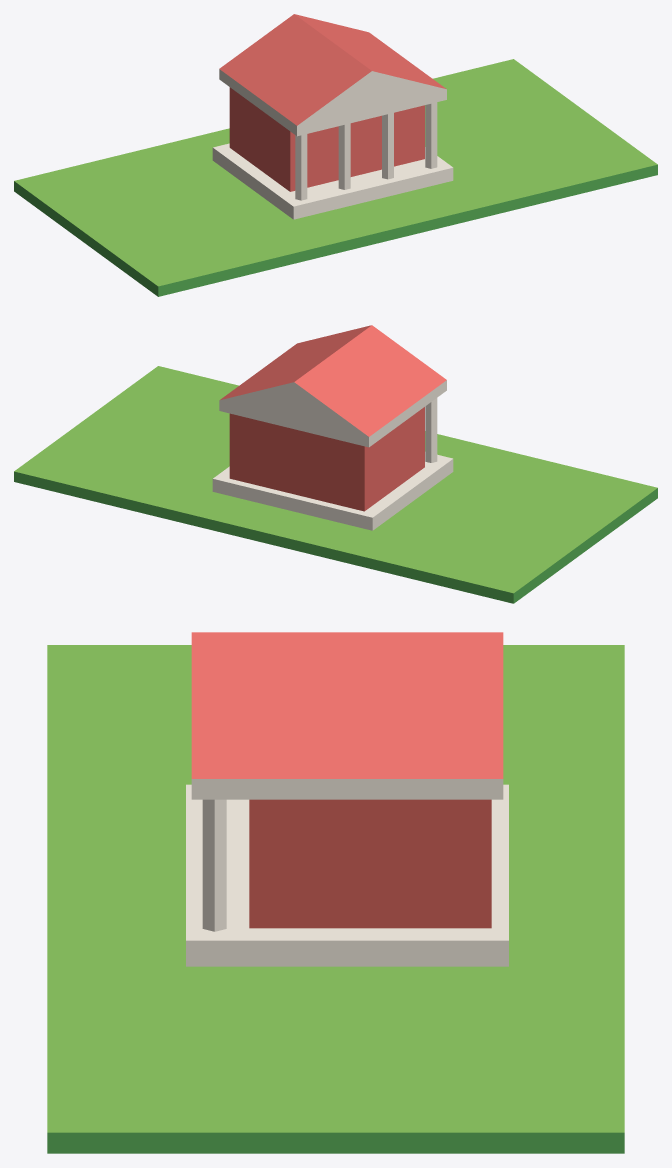
The model's file is skill_placevalue_hall_t1.glb.
3 renders of one model, top to bottom at view 1: azimuth 30°, elevation 25°; view 2: azimuth 150°, elevation 25°; view 3: azimuth 270°, elevation 25°, orthographic. The views are drawn at different scales.
Visible parts, largest first — view 1: base, wing_center; view 2: base, wing_center; view 3: base, wing_center.
Part boxes in pixels (x1=…): base: x1=14, y1=59, x2=657, y2=296; wing_center: x1=212, y1=14, x2=453, y2=219; base: x1=14, y1=366, x2=657, y2=603; wing_center: x1=212, y1=325, x2=453, y2=530; base: x1=47, y1=645, x2=624, y2=1153; wing_center: x1=186, y1=632, x2=508, y2=966.
Bounding box in the file's own units: 2 × 0.53 × 1.
